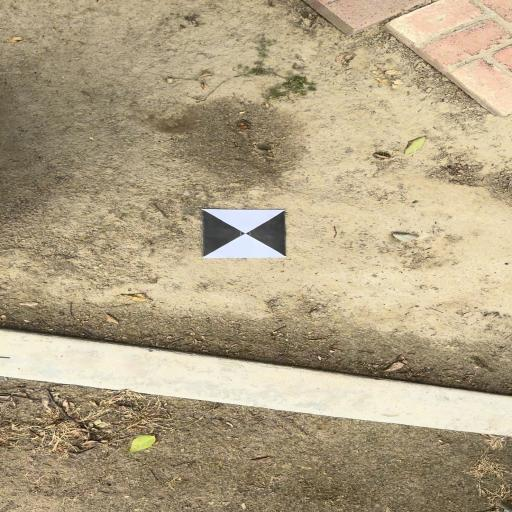target: (202, 210, 286, 257)
